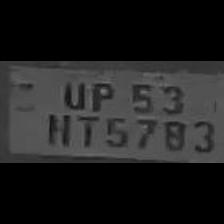3: (154, 78, 186, 114), (188, 117, 216, 153)
5: (125, 78, 157, 114), (99, 113, 129, 148)
7: (130, 116, 156, 150)
8: (159, 118, 187, 150)
H: (44, 109, 72, 147)
P: (87, 78, 117, 110)
T: (70, 113, 98, 148)
U: (58, 76, 88, 108)
